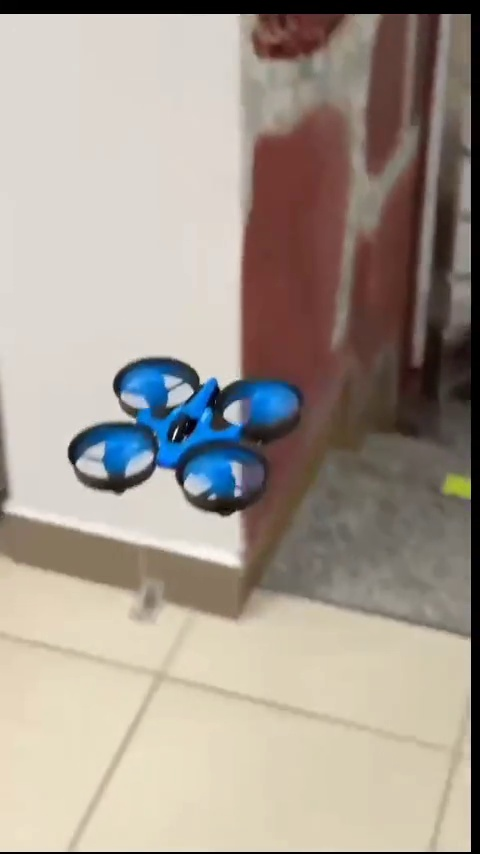drone: (66, 356, 304, 512)
